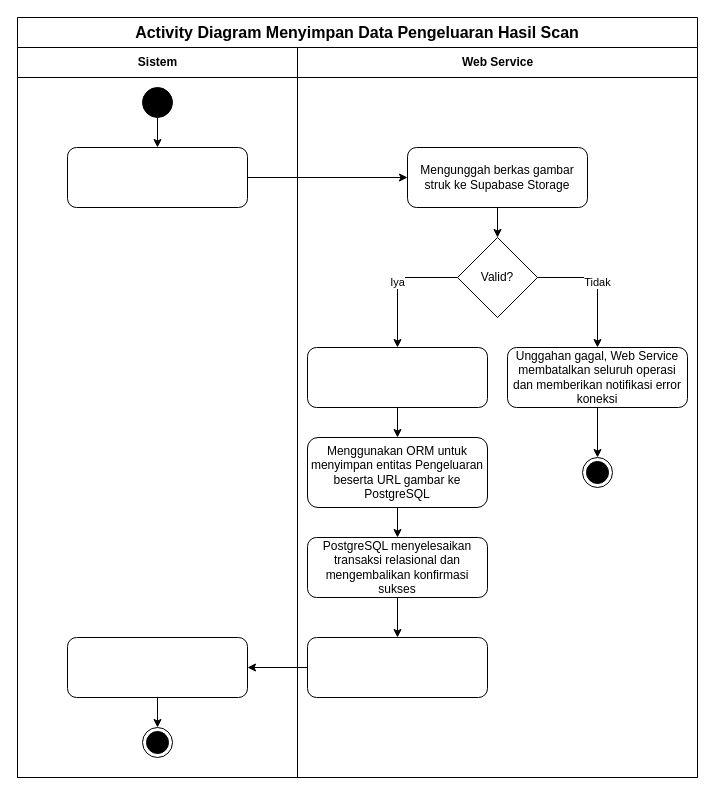
Image size: 715x795. Some labels were removed from this diagram. The centre of each missing label's shape, as x and y in pixels:
"Menampilkan pesan konfirmasi dan membawa Masyarakat ke halaman utama" goes at point (157, 667).
"Mengirimkan paket final data transaksi beserta berkas gambar ke Web Service" goes at point (157, 177).
"Mengirimkan respons sukses kepada client aplikasi" goes at point (397, 667).
"Supabase Storage mengembalikan URL atau path penyimpanan gambar tersebut" goes at point (397, 377).
